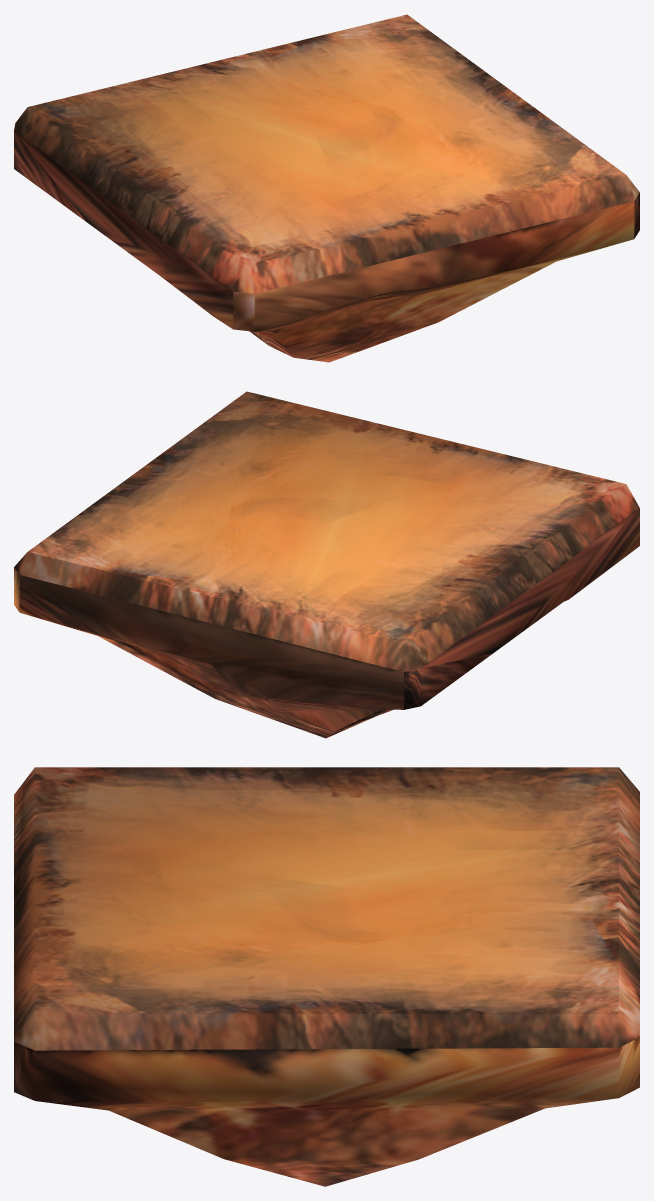
Rendered from Yellow_MD_Mainsquare.fbx.
3 renders of one model, top to bottom at view 1: azimuth 30°, elevation 25°; view 2: azimuth 150°, elevation 25°; view 3: azimuth 270°, elevation 25°, orthographic. The views are drawn at different scales.
Visible parts, largest first — view 1: Yellow_MD_MainSquare; view 2: Yellow_MD_MainSquare; view 3: Yellow_MD_MainSquare.
Part boxes in pixels (bbox=[...]): Yellow_MD_MainSquare: bbox=[14, 14, 639, 362]; Yellow_MD_MainSquare: bbox=[14, 391, 639, 738]; Yellow_MD_MainSquare: bbox=[14, 767, 639, 1186].
Bounding box in the file's own units: 0.98 × 0.5097 × 0.98.
